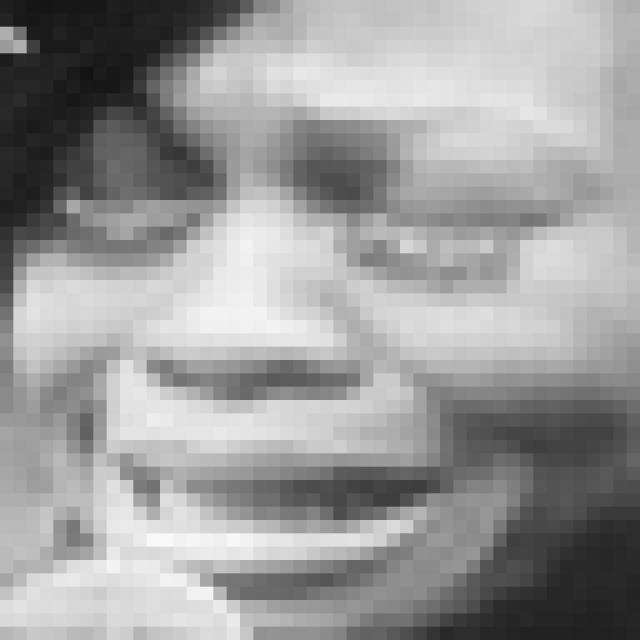sad: (56, 87, 600, 592)
